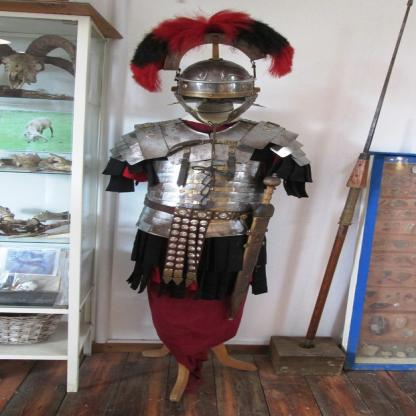Helmet: (152, 47, 281, 118)
